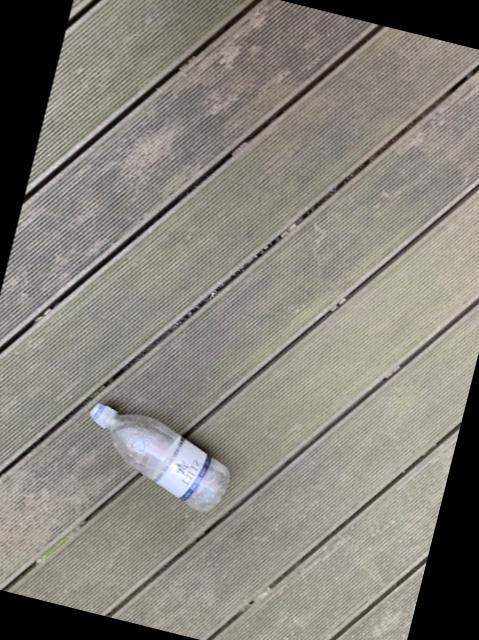plastic: (88, 405, 226, 513)
